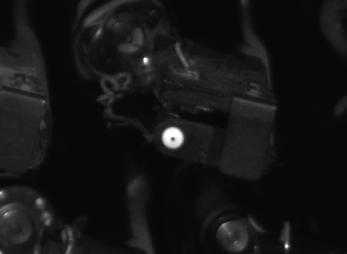fiber: (154, 119, 189, 155)
